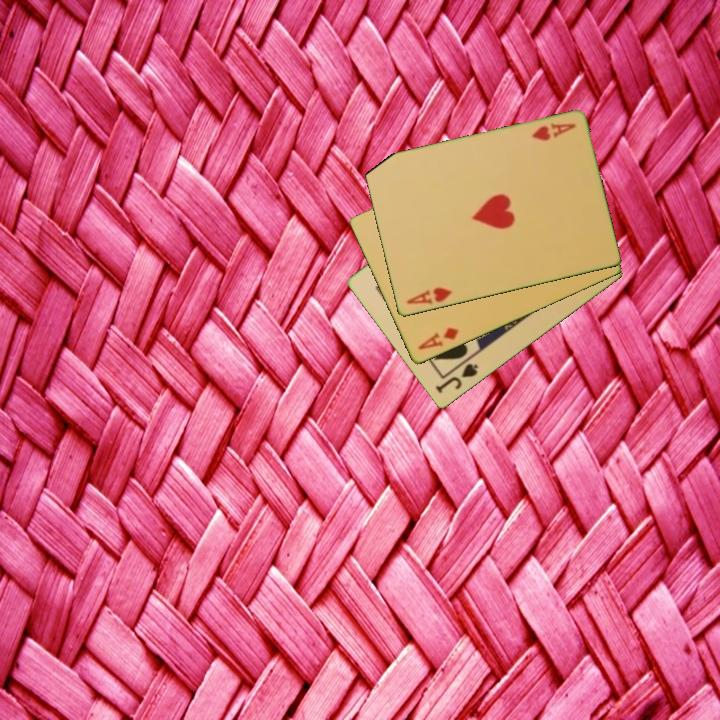Ad: (414, 324, 462, 353)
Ah: (403, 284, 455, 308), (528, 120, 578, 144)
Js: (432, 360, 481, 397)
